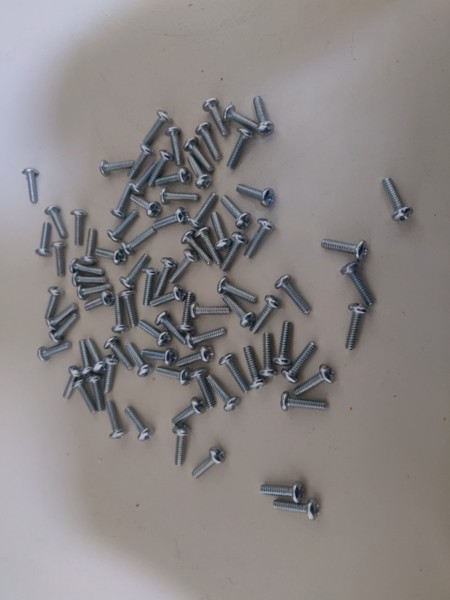shortscrew: (340, 262, 376, 306), (275, 275, 313, 315), (382, 176, 414, 222), (282, 342, 317, 384), (293, 365, 336, 398), (179, 230, 216, 267), (245, 218, 277, 260), (206, 376, 242, 412), (250, 294, 281, 335), (219, 353, 250, 394), (222, 293, 256, 329), (344, 304, 369, 352), (188, 192, 219, 230), (120, 253, 151, 291), (103, 337, 136, 372), (190, 368, 217, 410), (228, 127, 255, 169), (217, 277, 259, 304), (170, 248, 200, 285), (273, 498, 321, 521), (155, 311, 187, 345), (191, 448, 226, 479), (125, 407, 156, 442), (143, 111, 173, 147), (220, 195, 251, 229), (195, 122, 222, 161), (194, 227, 221, 266), (184, 138, 214, 173), (122, 226, 158, 255), (126, 342, 155, 378), (260, 482, 307, 504), (49, 312, 81, 344), (202, 97, 228, 136), (149, 150, 175, 189), (244, 346, 267, 390), (171, 398, 207, 426), (137, 320, 173, 348), (108, 210, 137, 244), (130, 160, 158, 195), (322, 240, 368, 261), (272, 321, 293, 367), (280, 392, 330, 411), (186, 328, 228, 350), (175, 345, 215, 368), (237, 184, 275, 208), (46, 303, 78, 331), (176, 292, 197, 334), (211, 212, 233, 252), (73, 379, 98, 414), (152, 207, 190, 230), (45, 205, 69, 241), (111, 183, 135, 219), (156, 257, 177, 298), (130, 145, 156, 178), (224, 104, 258, 129), (105, 400, 126, 440), (188, 154, 212, 189), (255, 96, 275, 137), (150, 284, 187, 306), (164, 126, 184, 166), (190, 302, 232, 321), (259, 334, 277, 377), (130, 194, 162, 218), (86, 337, 107, 373), (173, 424, 190, 468), (156, 366, 193, 386), (160, 188, 201, 206), (38, 341, 73, 362), (80, 228, 99, 266), (102, 355, 120, 395), (118, 290, 137, 327), (111, 295, 129, 334), (63, 366, 83, 401), (84, 290, 116, 311), (45, 287, 64, 322), (156, 167, 191, 186), (70, 258, 105, 277), (141, 267, 158, 306), (77, 283, 113, 301), (142, 348, 178, 366), (100, 159, 135, 177), (51, 242, 68, 277), (71, 209, 87, 246), (79, 339, 95, 376), (71, 272, 108, 288), (23, 169, 40, 203), (95, 248, 127, 266), (36, 222, 52, 258)
